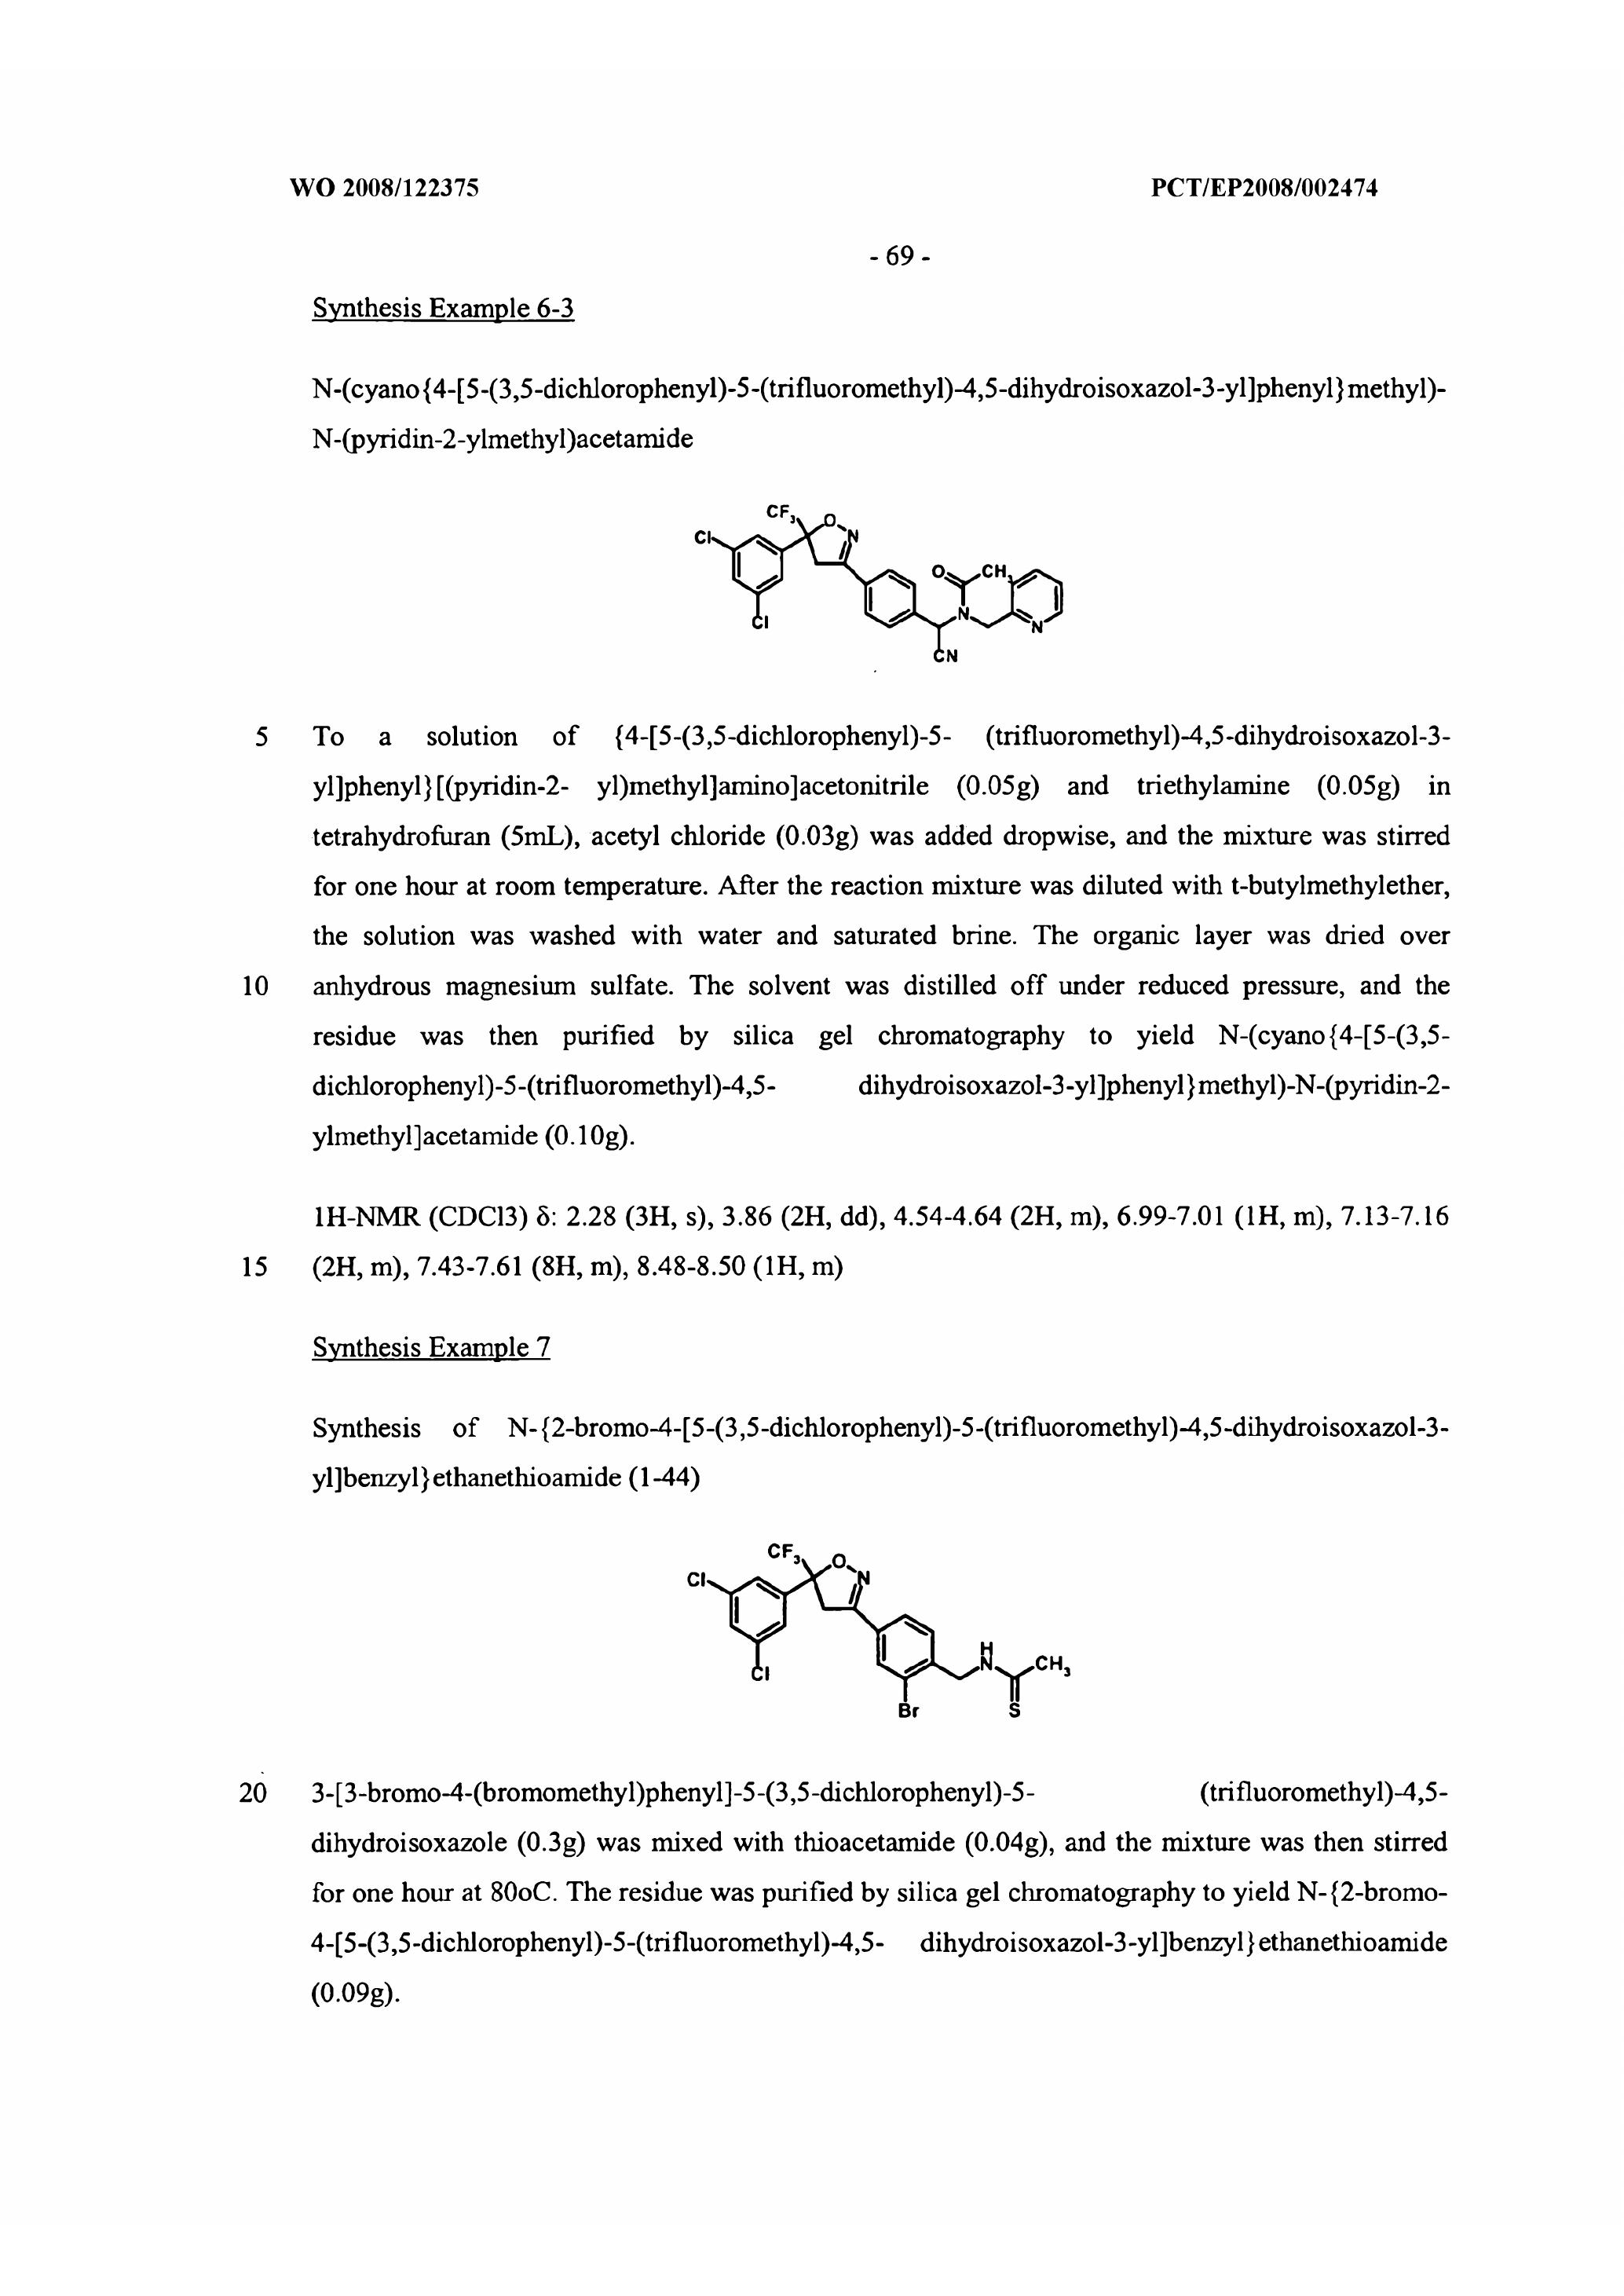relevant-structures: (650, 1484, 1095, 1786), (642, 459, 1167, 689)
